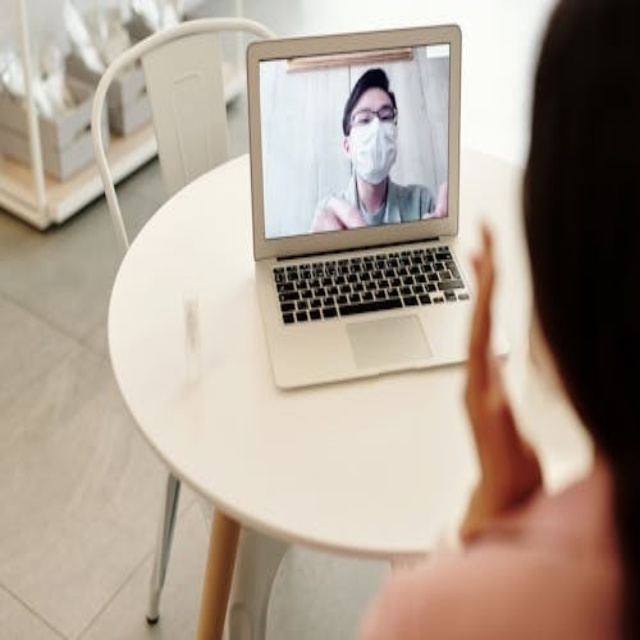Gafas: (349, 106, 398, 128)
Mascara: (350, 115, 398, 185)
Sin_guantes: (458, 221, 546, 543), (313, 194, 368, 232)
